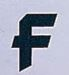Fisher: (10, 12, 58, 73)
